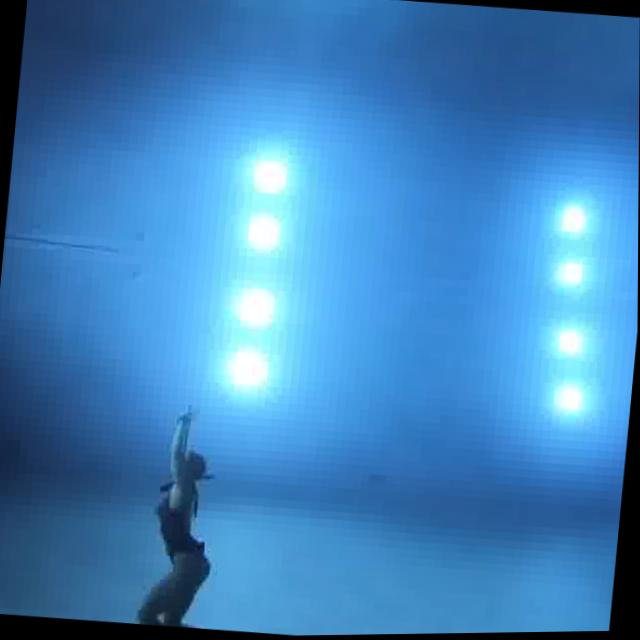human: (129, 392, 264, 633)
